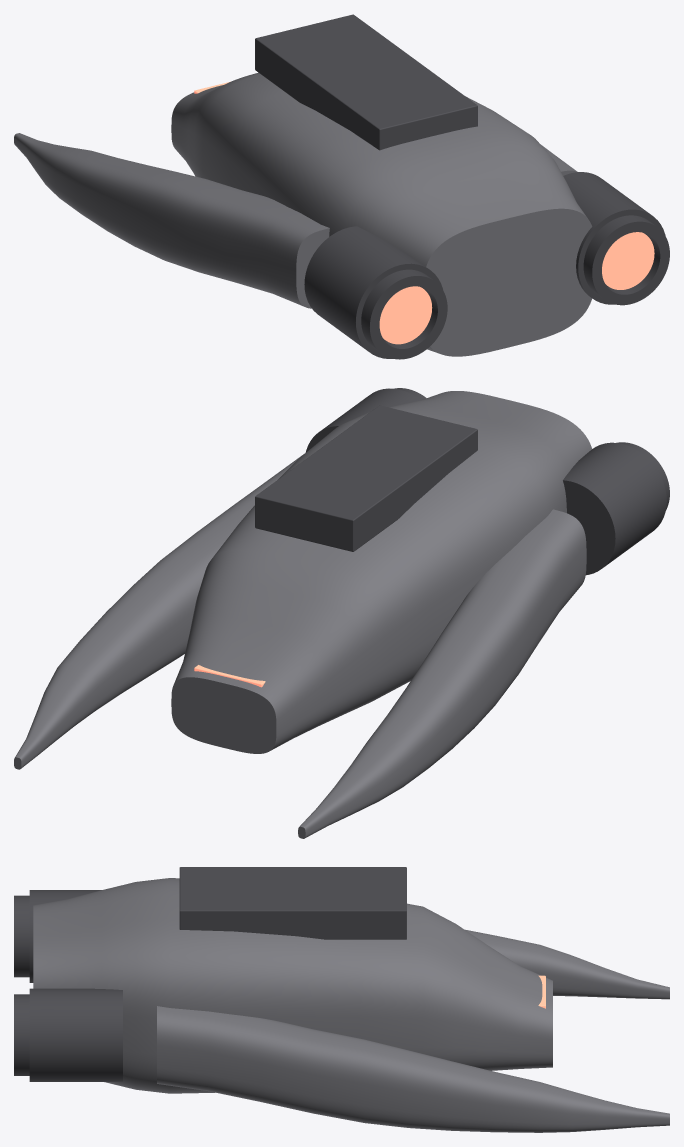
The model's file is oxpecker.glb.
The picture shows the model from 3 angles, top to bottom: view 1: azimuth 30°, elevation 25°; view 2: azimuth 150°, elevation 25°; view 3: azimuth 270°, elevation 25°; orthographic projection. The views are drawn at different scales.
Visible parts, largest first — view 1: oxpecker_hull; view 2: oxpecker_hull; view 3: oxpecker_hull.
Part boxes in pixels (left/top/right/bottom): oxpecker_hull: left=14, top=14, right=669, bottom=359; oxpecker_hull: left=14, top=388, right=669, bottom=838; oxpecker_hull: left=14, top=867, right=669, bottom=1132.
Bounding box in the file's own units: 5.54 × 2.88 × 9.7.
